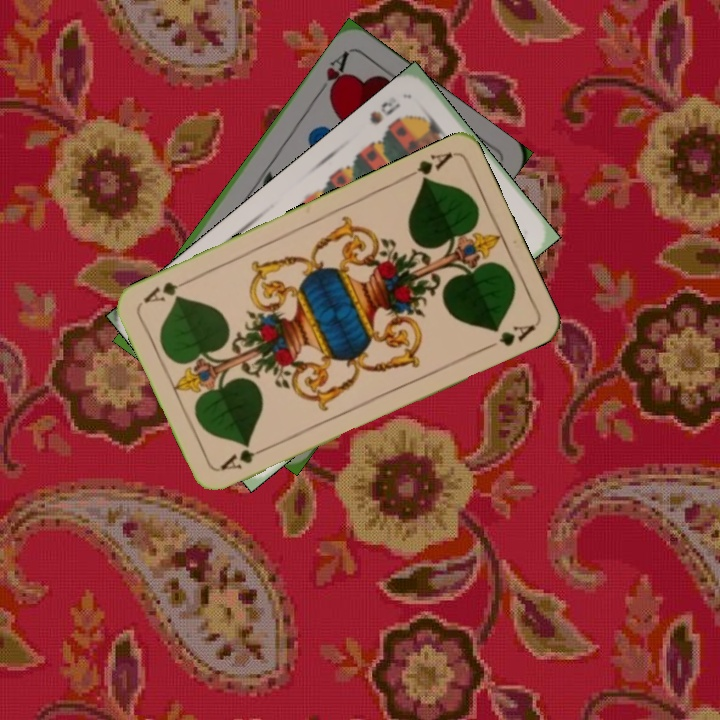GA: (400, 148, 456, 186), (216, 442, 272, 473)
HA: (312, 47, 352, 100)
S8: (365, 97, 404, 127)
